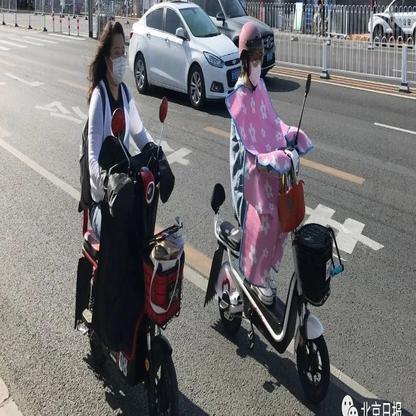target: (210, 20, 344, 403), (77, 18, 190, 406)
